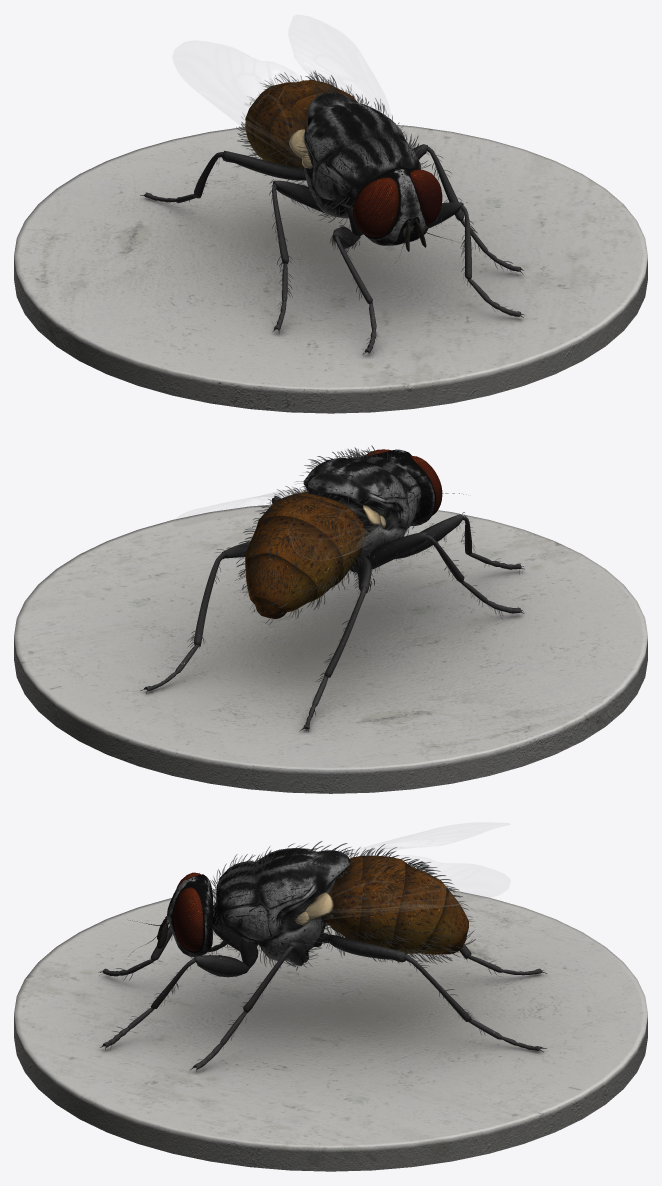
3 renders of one model, top to bottom at view 1: azimuth 30°, elevation 25°; view 2: azimuth 150°, elevation 25°; view 3: azimuth 270°, elevation 25°, orthographic.
Parts seen in each view (by area): view 1: Cylinder001, Object008_MultiMat_0_0, Object008_MultiMat_0h_0, Object008_MultiMat_0d_0; view 2: Cylinder001, Object008_MultiMat_0_0, Object008_MultiMat_0h_0; view 3: Cylinder001, Object008_MultiMat_0_0, Object008_MultiMat_0h_0, Object008_MultiMat_0d_0.
Part boxes in pixels (x1,y1,x2,y2): Cylinder001: (14, 125, 647, 413); Object008_MultiMat_0_0: (140, 80, 524, 355); Object008_MultiMat_0h_0: (145, 70, 517, 354); Object008_MultiMat_0d_0: (173, 16, 390, 159); Cylinder001: (14, 504, 647, 793); Object008_MultiMat_0_0: (140, 449, 524, 731); Object008_MultiMat_0h_0: (187, 445, 522, 730); Cylinder001: (14, 889, 647, 1171); Object008_MultiMat_0_0: (100, 848, 546, 1071); Object008_MultiMat_0h_0: (98, 841, 496, 1060); Object008_MultiMat_0d_0: (311, 825, 510, 918).
Bounding box in the file's own units: 1.2 × 0.4056 × 1.2.
4 materials, 4 textured.
